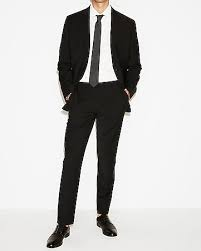F_M_suit jacket: (56, 3, 145, 116)
F_dress pants: (56, 77, 128, 227)
F_tie: (86, 12, 109, 95)
